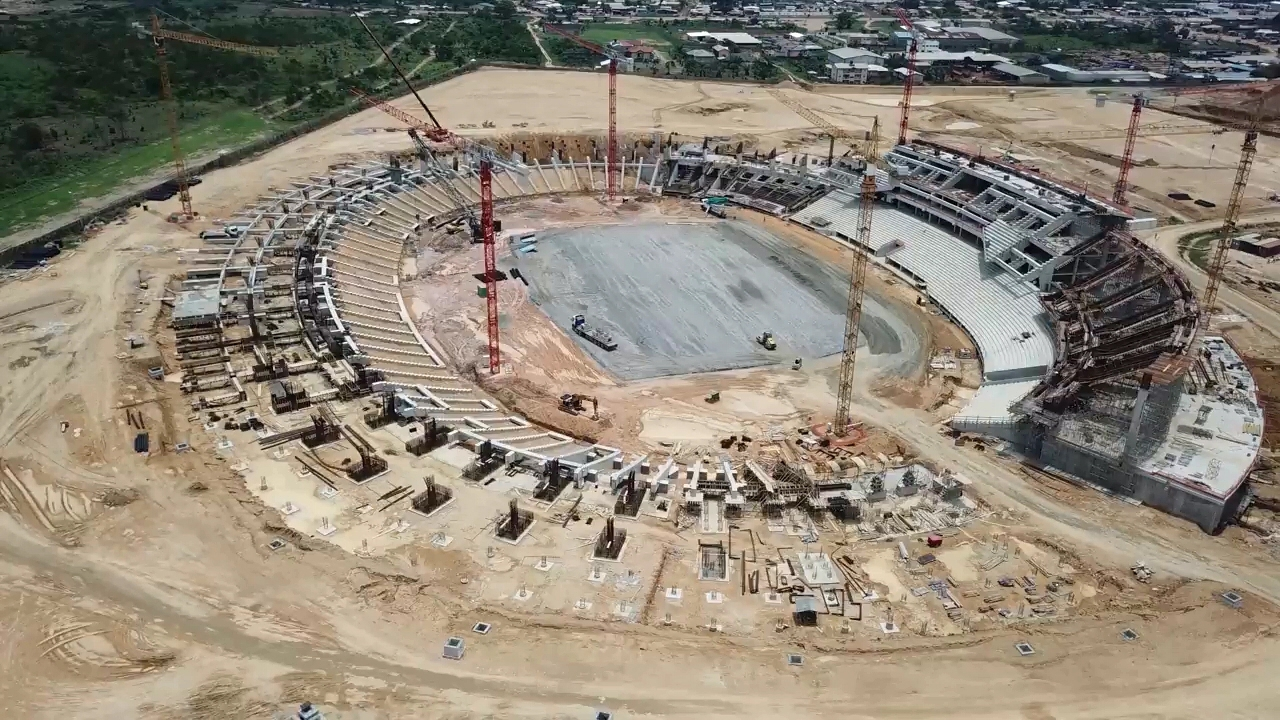ismakinesi: (556, 389, 609, 423)
kamyon: (569, 312, 623, 355)
traktor: (755, 328, 781, 352)
